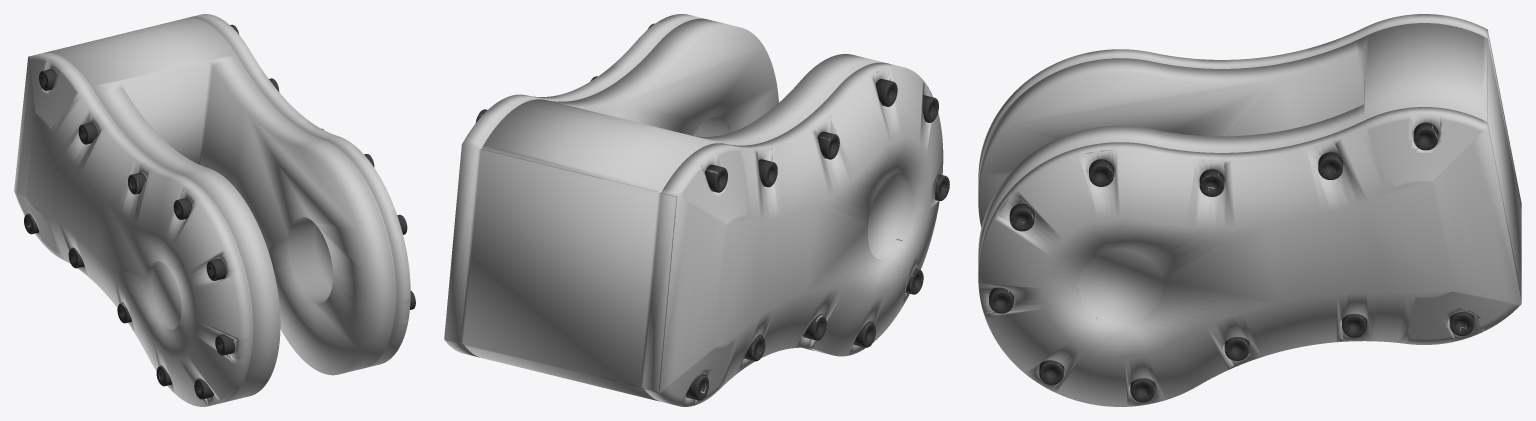
File: 2ramie_przedluzenie.obj
3 renders of one model, left to right at view 1: azimuth 30°, elevation 25°; view 2: azimuth 150°, elevation 25°; view 3: azimuth 270°, elevation 25°, orthographic. The views are drawn at different scales.
Visible parts, largest first — view 1: czwarty_przegub; view 2: czwarty_przegub; view 3: czwarty_przegub.
Part boxes in pixels (x1=…): czwarty_przegub: x1=14, y1=14, x2=415, y2=406; czwarty_przegub: x1=444, y1=14, x2=949, y2=406; czwarty_przegub: x1=978, y1=14, x2=1521, y2=406.
Size of the model in its own units: 2.14 by 2.43 by 4.09.
Materials: 1 (1 with a texture image).
